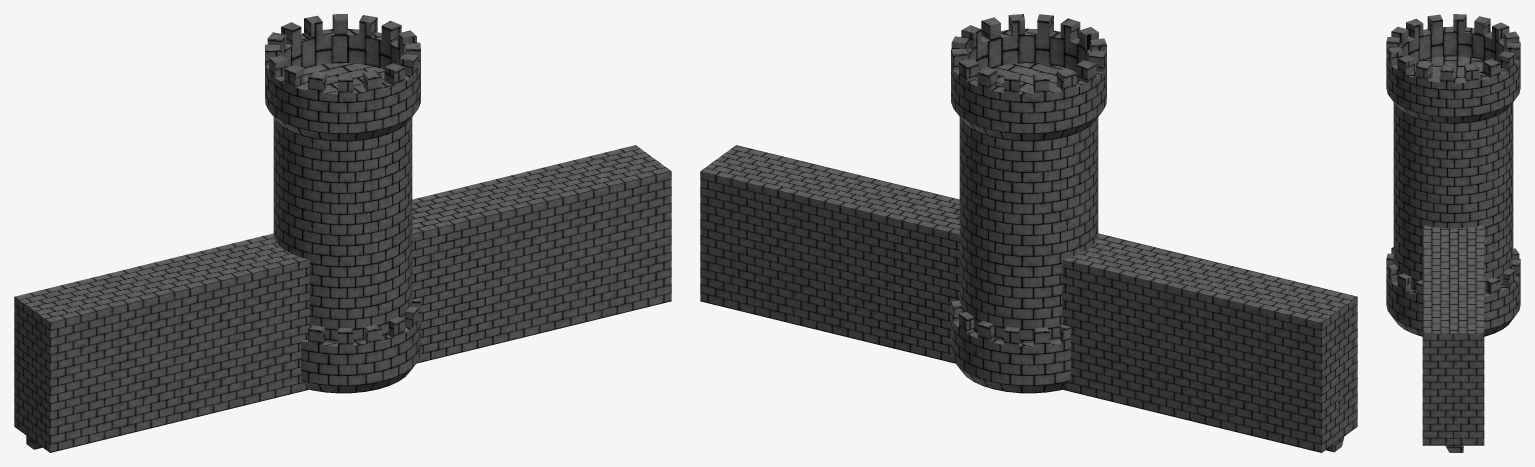
The model's file is Castle-OuterWalls.fbx.
The picture shows the model from 3 angles, left to right: view 1: azimuth 30°, elevation 25°; view 2: azimuth 150°, elevation 25°; view 3: azimuth 270°, elevation 25°; orthographic projection. The views are drawn at different scales.
Visible parts, largest first — view 1: Castle Wall 01 Long, Fake Tower 01 Base, Fake Tower 01, Fake Tower 01 top, Fake Tower 01 Base Half, Castle Wall Broken 01, Castle Gateway 01, Castle Wall Broken 02, Castle Wall 01, Castle Wall Broken 08, Castle Wall Broken 04, Castle Wall Broken 06 (+3 smaller); view 2: Castle Wall 01 Long, Fake Tower 01 Base, Fake Tower 01, Fake Tower 01 top, Fake Tower 01 Base Half, Castle Wall Broken 01, Castle Wall Broken 08, Castle Wall Broken 06, Castle Gateway 01, Castle Wall 01; view 3: Fake Tower 01 Base, Castle Wall 01 Long, Fake Tower 01, Fake Tower 01 Base Half, Fake Tower 01 top, Castle Gateway 01, Parapet 02 W Long, Castle Wall Broken 06, Castle Wall Broken 01.
Part boxes in pixels (box(x1,y1,x2,y2)): Castle Wall 01 Long: box(14, 145, 671, 452); Fake Tower 01 Base: box(273, 117, 412, 342); Fake Tower 01: box(265, 14, 420, 141); Fake Tower 01 top: box(301, 297, 420, 393); Fake Tower 01 Base Half: box(273, 217, 412, 342); Castle Wall Broken 01: box(415, 191, 485, 363); Castle Gateway 01: box(412, 192, 484, 349); Castle Wall Broken 02: box(412, 255, 484, 362); Castle Wall 01: box(263, 233, 422, 391); Castle Wall Broken 08: box(412, 268, 483, 362); Castle Wall Broken 04: box(427, 293, 482, 357); Castle Wall Broken 06: box(412, 208, 479, 362); Castle Wall 01 Long: box(700, 145, 1357, 452); Fake Tower 01 Base: box(959, 117, 1098, 342); Fake Tower 01: box(951, 14, 1106, 141); Fake Tower 01 top: box(951, 301, 1070, 393); Fake Tower 01 Base Half: box(959, 220, 1097, 342); Castle Wall Broken 01: box(886, 191, 959, 362); Castle Wall Broken 08: box(886, 271, 959, 361); Castle Wall Broken 06: box(890, 209, 959, 361); Castle Gateway 01: box(887, 200, 955, 295); Castle Wall 01: box(949, 224, 1108, 390); Fake Tower 01 Base: box(1393, 102, 1513, 292); Castle Wall 01 Long: box(1422, 228, 1484, 445); Fake Tower 01: box(1386, 14, 1520, 123); Fake Tower 01 Base Half: box(1393, 189, 1513, 292); Fake Tower 01 top: box(1386, 247, 1520, 336); Castle Gateway 01: box(1422, 225, 1484, 255); Parapet 02 W Long: box(1445, 408, 1463, 452); Castle Wall Broken 06: box(1422, 225, 1484, 238); Castle Wall Broken 01: box(1423, 250, 1483, 255).
Size of what is drawn, in the model's own units: 30 by 15.13 by 6.53.
